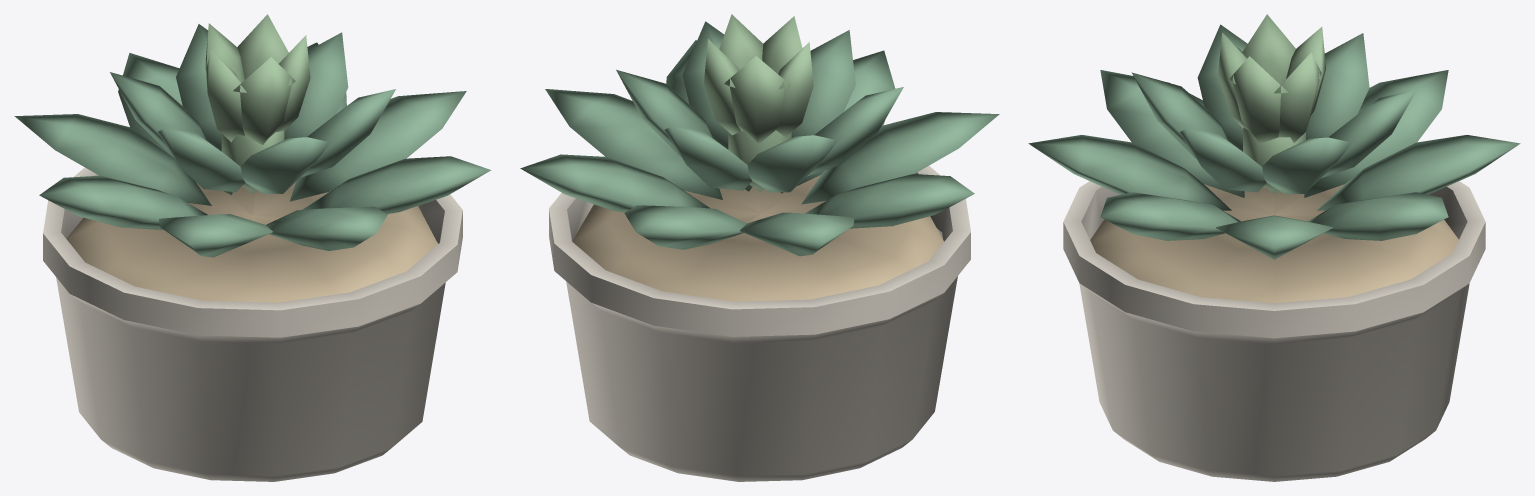
The model's file is potSucculent.glb.
The picture shows the model from 3 angles, left to right: view 1: azimuth 30°, elevation 25°; view 2: azimuth 150°, elevation 25°; view 3: azimuth 270°, elevation 25°; orthographic projection.
Parts seen in each view (by area): view 1: potSucculent; view 2: potSucculent; view 3: potSucculent.
Part boxes in pixels (box(x1,y1,x2,y2)): potSucculent: box(14, 14, 491, 481); potSucculent: box(520, 14, 999, 481); potSucculent: box(1028, 14, 1520, 481).
Bounding box in the file's own units: 0.1633 × 0.1378 × 0.1633.
